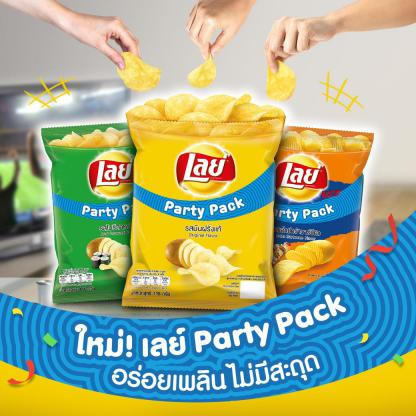potatochip: (115, 93, 288, 320), (34, 111, 190, 310), (240, 118, 379, 303)
